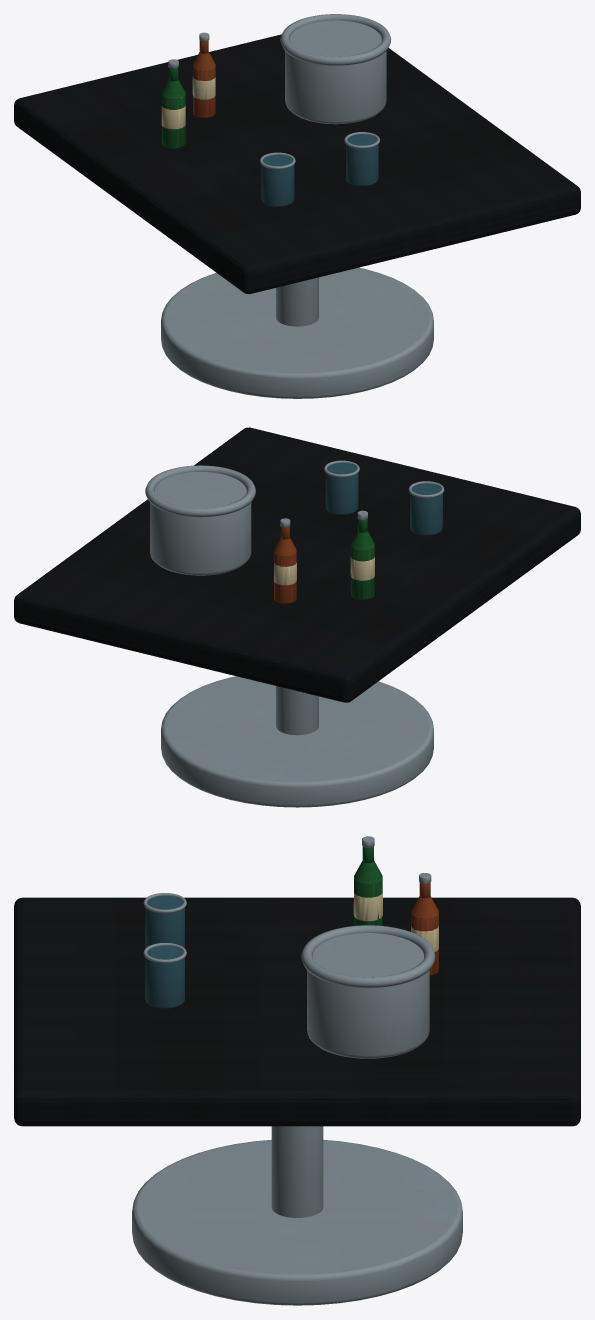
File: table.glb
3 views of the same model, one above another, from view 1: azimuth 30°, elevation 25°; view 2: azimuth 150°, elevation 25°; view 3: azimuth 270°, elevation 25° (orthographic). The views are drawn at different scales.
Visible parts, largest first — view 1: table; view 2: table; view 3: table.
Boxes of the visible parts, bbox=[...] form: table: bbox=[14, 14, 580, 398]; table: bbox=[14, 427, 580, 807]; table: bbox=[14, 836, 580, 1305].
Size of the model in its own units: 1 by 0.7999 by 1.2.
1 material, 1 textured.
